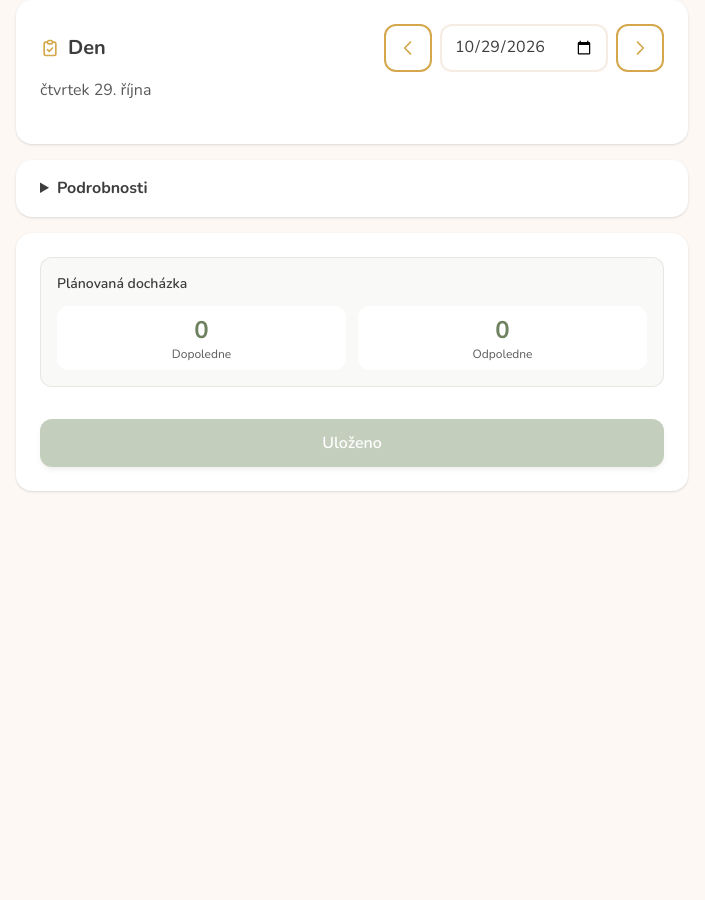
Test: TeacherAttendancePage › lets the director mark the selected day as a day without lunch
Click the heading "Podrobnosti" at [102, 188], box [57,177,147,199]
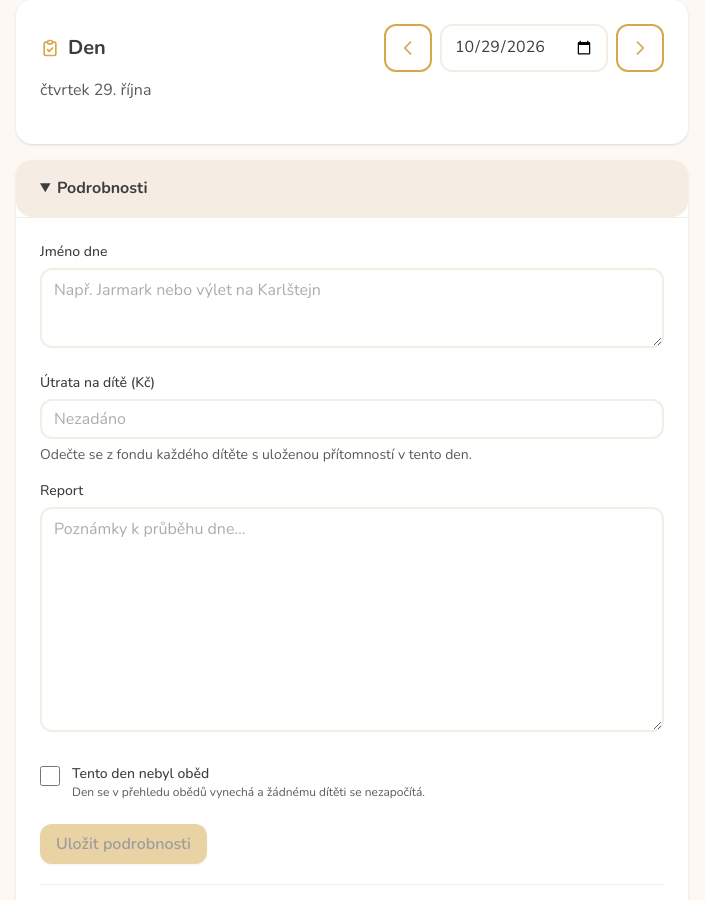
Click the checkbox labelled "Tento den nebyl oběd" at [50, 776], box [40,766,60,786]
(page scrolled)
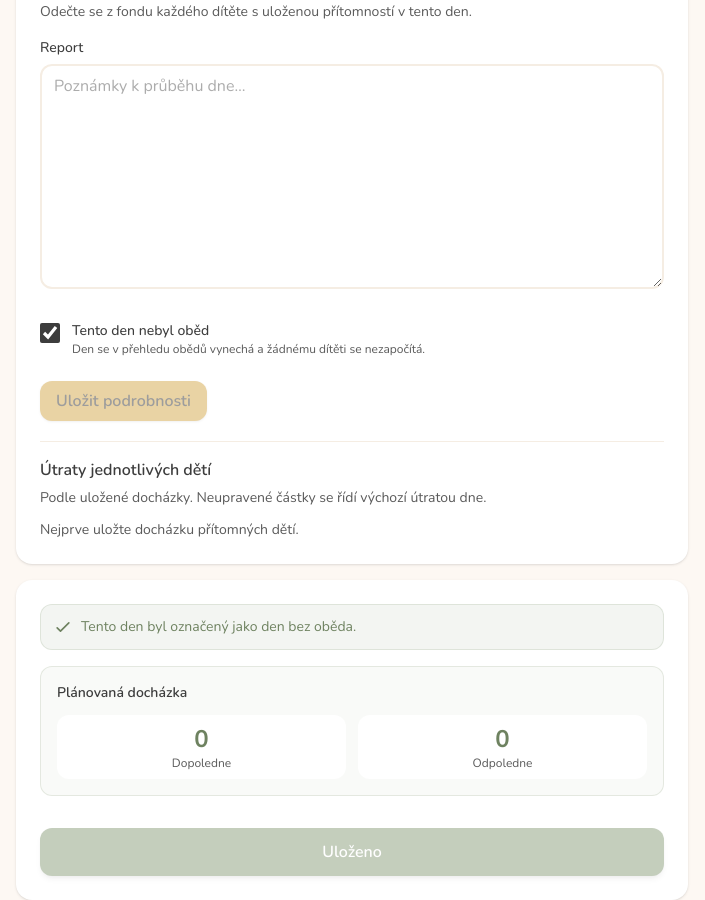
Expected: the text "Tento den byl označený jako den bez oběda." is shown, [40,604,664,650]
